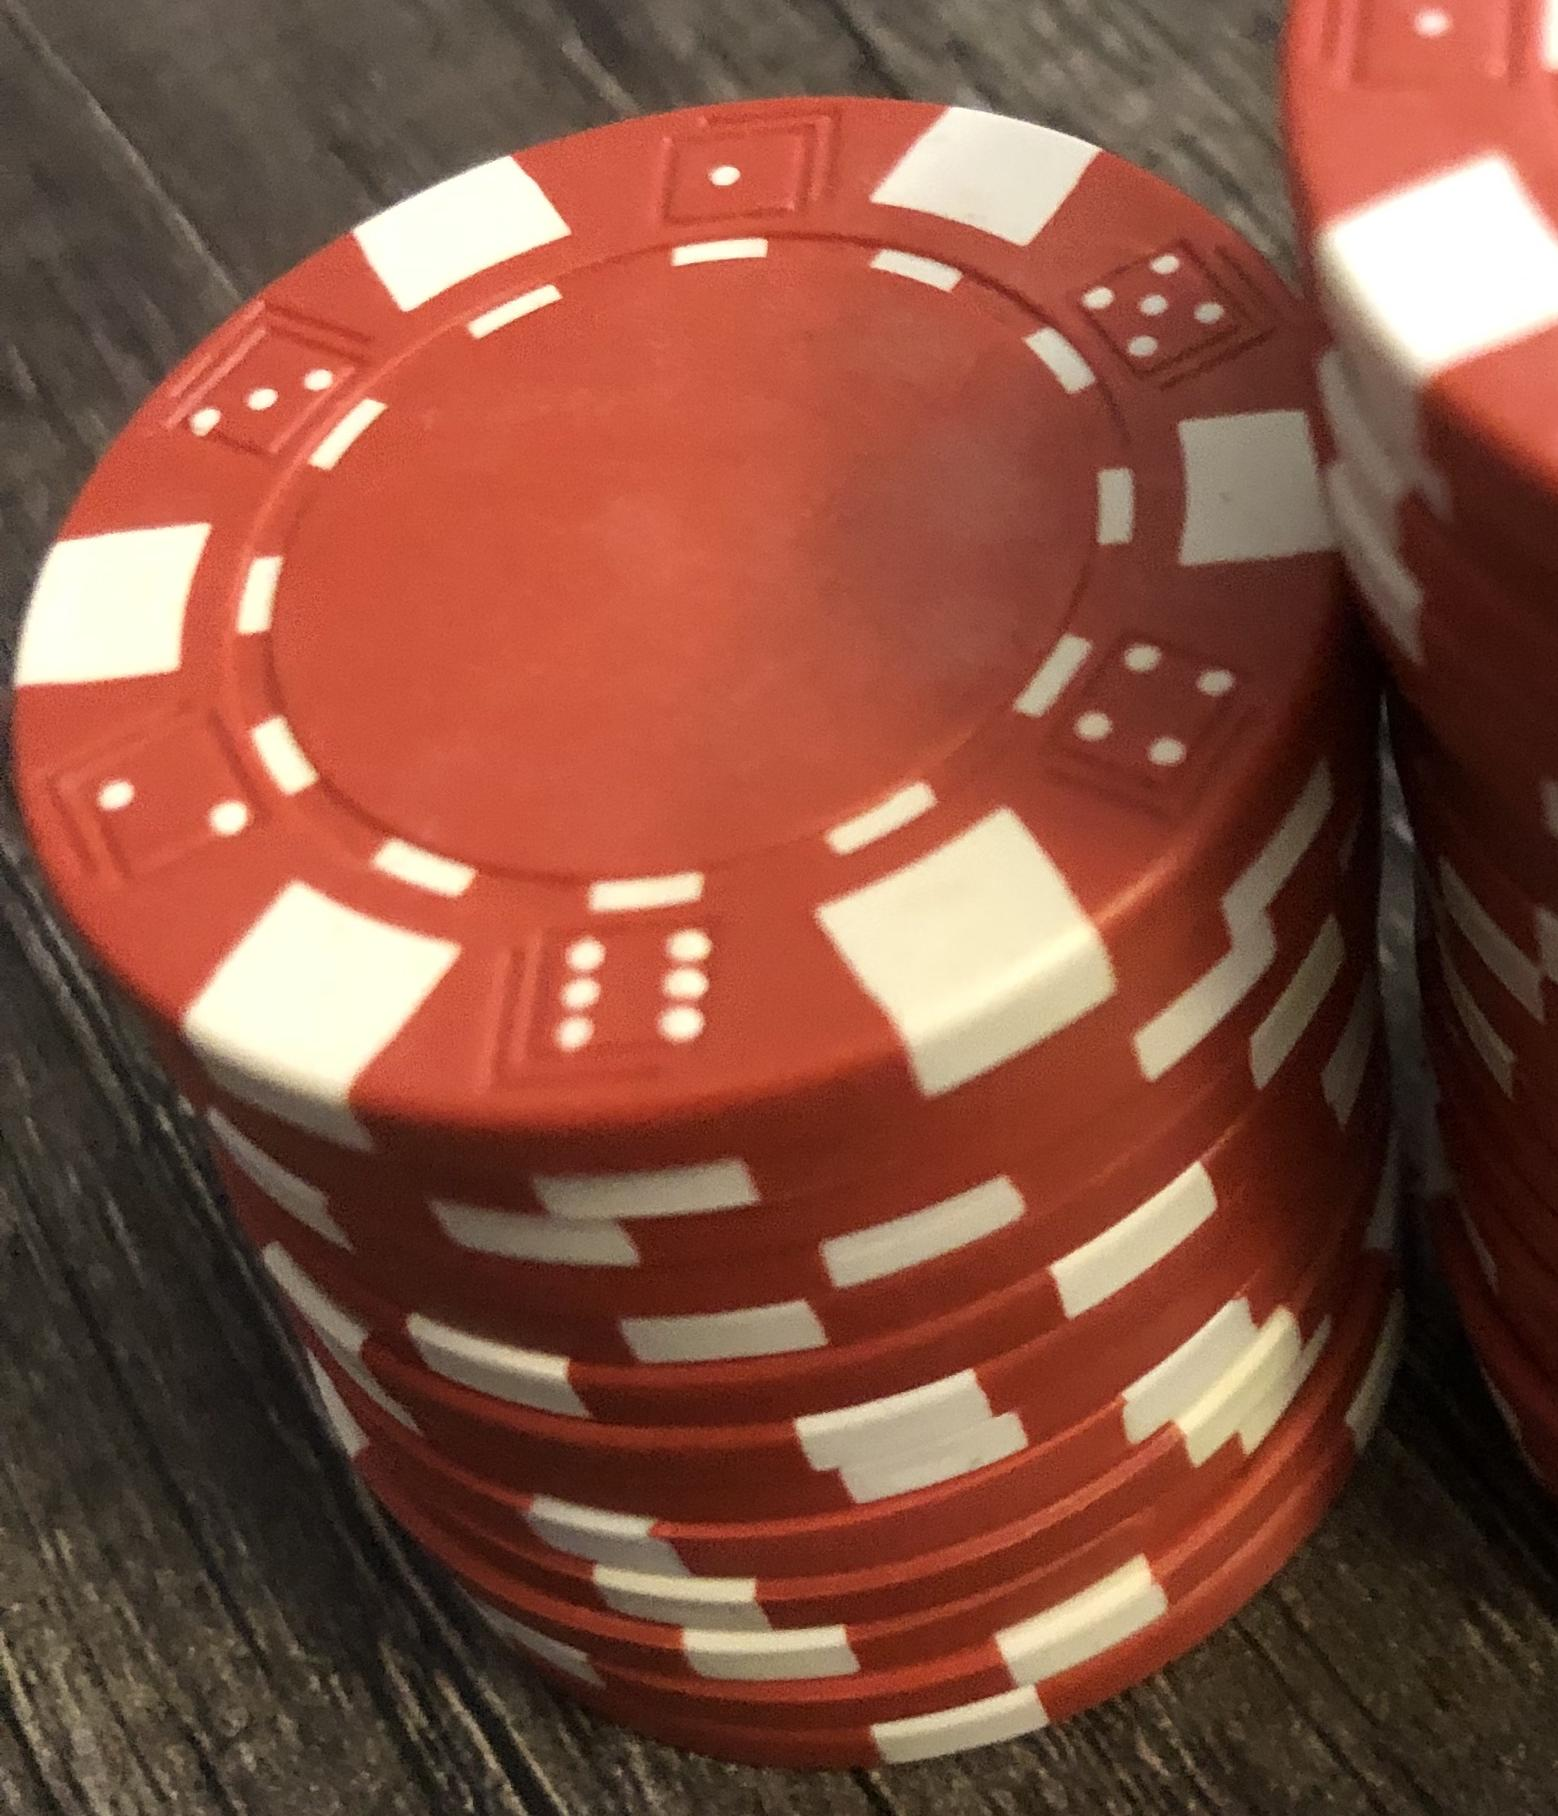Chip: (2, 2, 1558, 1816)
